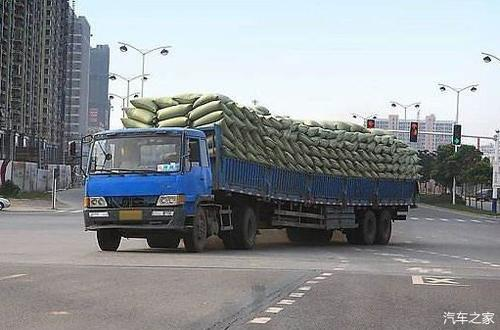chaozhai: (77, 79, 416, 254)
